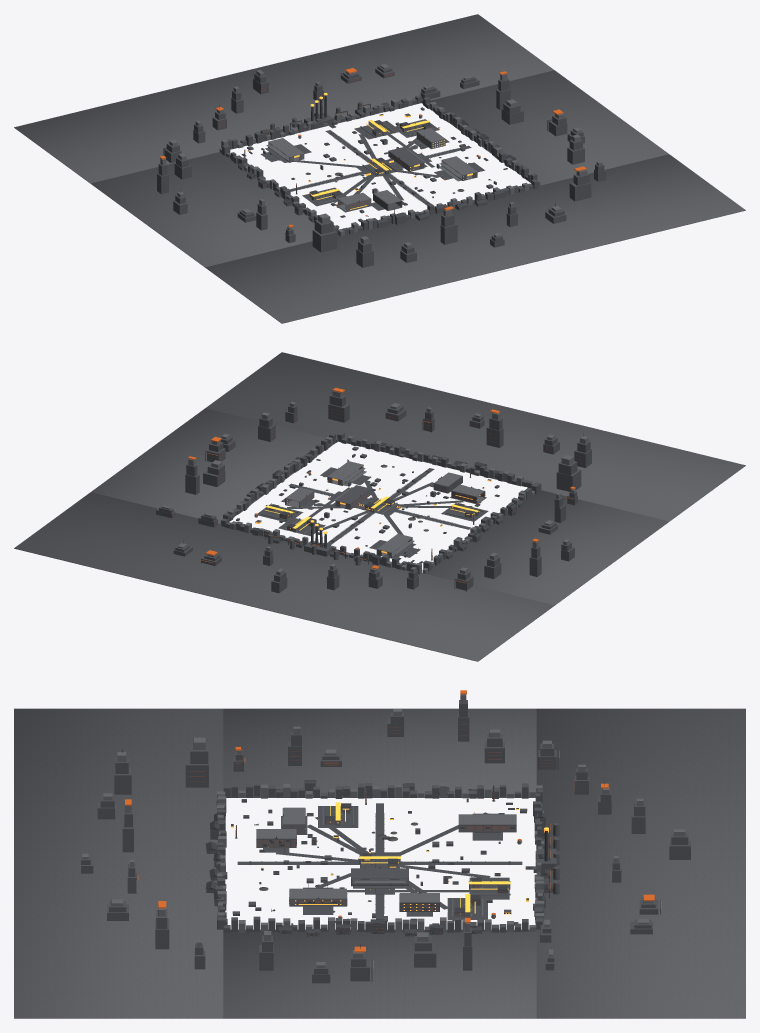
The model's file is koushou-lod0.glb.
3 renders of one model, top to bottom at view 1: azimuth 30°, elevation 25°; view 2: azimuth 150°, elevation 25°; view 3: azimuth 270°, elevation 25°, orthographic. The views are drawn at different scales.
Parts seen in each view (by area): view 1: HB_koushou_LOD0_terrain, HB_koushou_LOD0_wall_alt, HB_koushou_LOD0_wall, HB_koushou_LOD0_road, HB_koushou_LOD0_trim, HB_koushou_LOD0_obstacle, HB_koushou_LOD0_emissive; view 2: HB_koushou_LOD0_terrain, HB_koushou_LOD0_wall_alt, HB_koushou_LOD0_wall, HB_koushou_LOD0_road, HB_koushou_LOD0_trim, HB_koushou_LOD0_obstacle, HB_koushou_LOD0_emissive, HB_koushou_LOD0_glass; view 3: HB_koushou_LOD0_terrain, HB_koushou_LOD0_wall_alt, HB_koushou_LOD0_wall, HB_koushou_LOD0_road, HB_koushou_LOD0_trim, HB_koushou_LOD0_glass, HB_koushou_LOD0_obstacle, HB_koushou_LOD0_emissive, HB_koushou_LOD0_accent.
Part boxes in pixels (x1,y1,x2,y2): HB_koushou_LOD0_terrain: (14,14,745,323); HB_koushou_LOD0_wall_alt: (157,65,606,267); HB_koushou_LOD0_wall: (160,64,602,248); HB_koushou_LOD0_road: (262,118,491,216); HB_koushou_LOD0_trim: (163,73,555,240); HB_koushou_LOD0_obstacle: (163,74,548,234); HB_koushou_LOD0_emissive: (247,93,477,210); HB_koushou_LOD0_terrain: (14,352,745,661); HB_koushou_LOD0_wall_alt: (156,394,591,593); HB_koushou_LOD0_wall: (161,390,588,575); HB_koushou_LOD0_road: (255,460,488,560); HB_koushou_LOD0_trim: (183,419,583,591); HB_koushou_LOD0_obstacle: (201,420,574,582); HB_koushou_LOD0_emissive: (255,466,491,553); HB_koushou_LOD0_glass: (173,409,583,557); HB_koushou_LOD0_terrain: (14,708,745,1018); HB_koushou_LOD0_wall_alt: (81,700,690,983); HB_koushou_LOD0_wall: (82,694,685,968); HB_koushou_LOD0_road: (235,800,522,921); HB_koushou_LOD0_trim: (122,749,660,981); HB_koushou_LOD0_glass: (115,724,611,934); HB_koushou_LOD0_obstacle: (135,751,659,968); HB_koushou_LOD0_emissive: (231,802,548,914); HB_koushou_LOD0_accent: (125,690,661,968).
Bounding box in the file's own units: 734 × 53.5 × 734.
10 materials, 8 textured.
